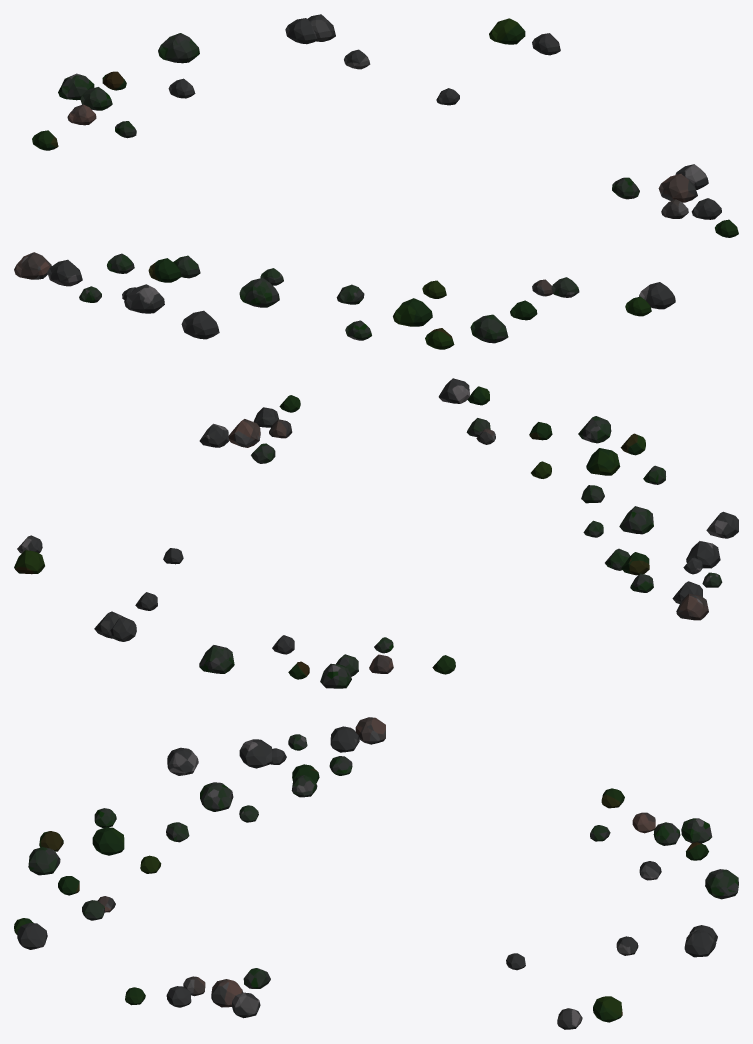
File: Las #2 Kamienie.glb
3 renders of one model, top to bottom at view 1: azimuth 30°, elevation 25°; view 2: azimuth 150°, elevation 25°; view 3: azimuth 270°, elevation 25°, orthographic. The views are drawn at different scales.
Parts seen in each view (by area): view 1: Plane.009; view 2: Plane.009; view 3: Plane.009.
Boxes of the visible parts, box(x1,y1,x2,y2) form: Plane.009: box(14, 14, 738, 349); Plane.009: box(14, 378, 738, 688); Plane.009: box(14, 717, 738, 1029).
Bounding box in the file's own units: 403 × 16.91 × 418.
Materials: 1 (1 with a texture image).
